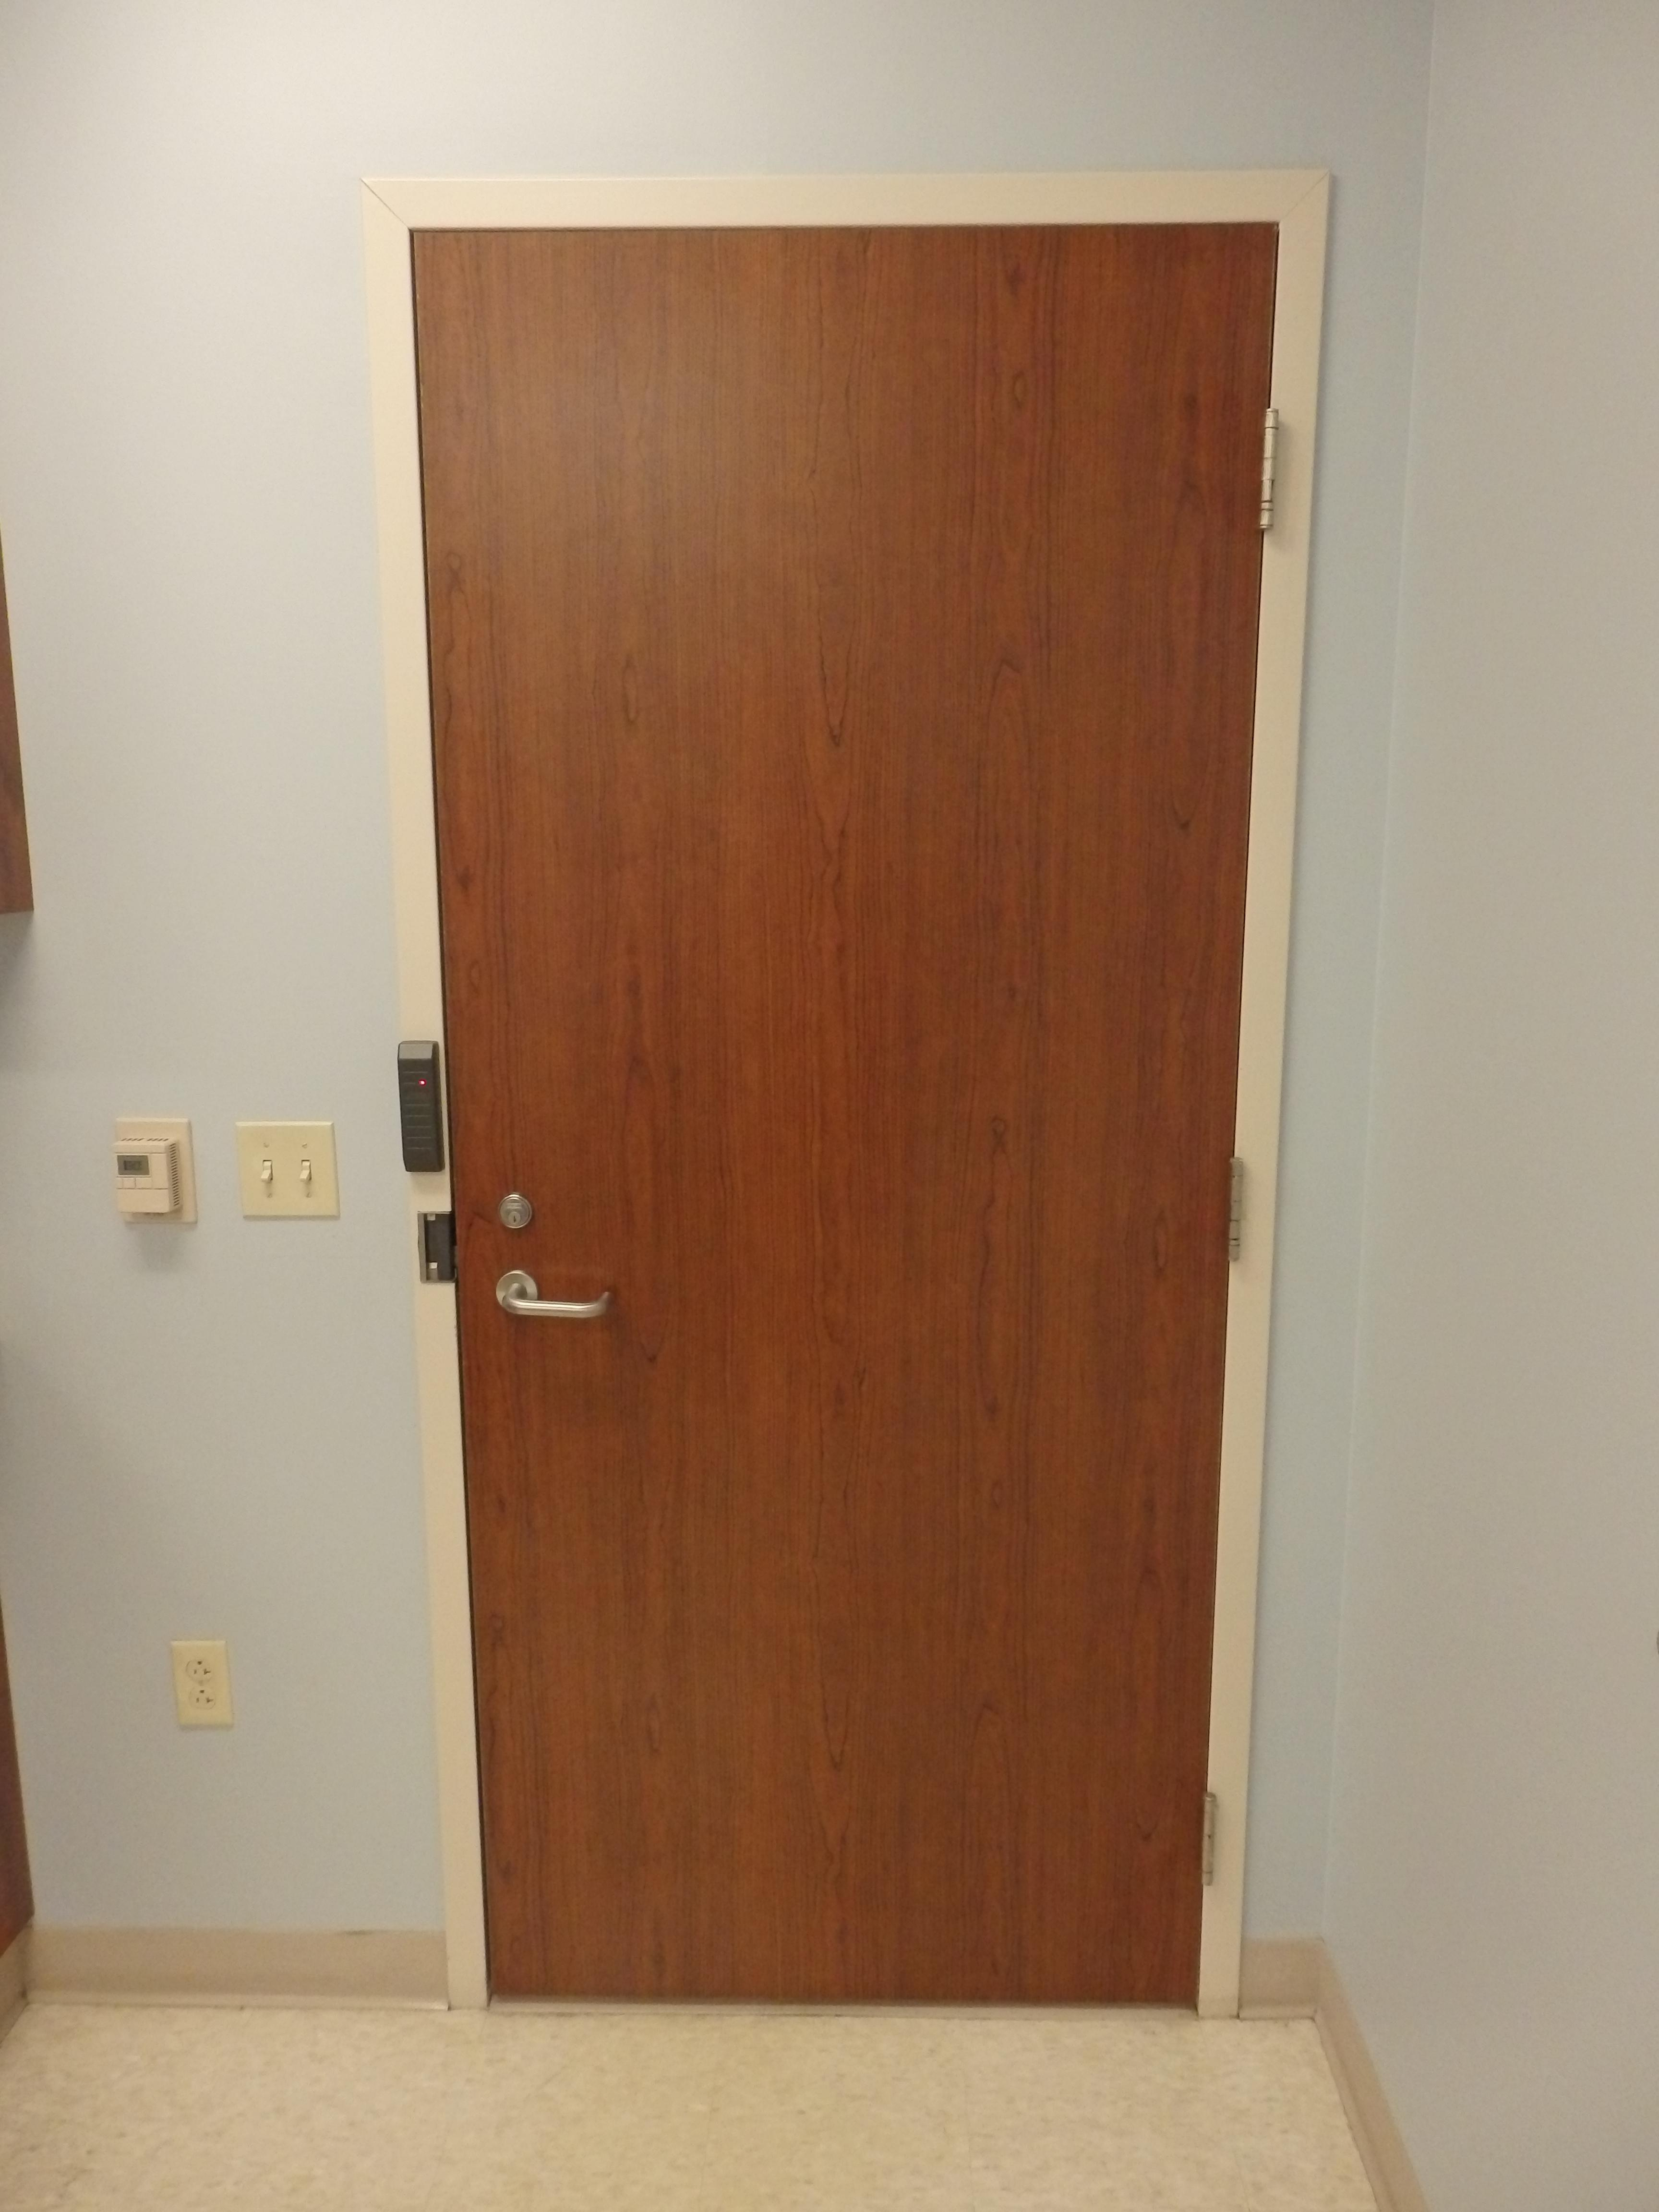door: (397, 214, 1229, 2010)
